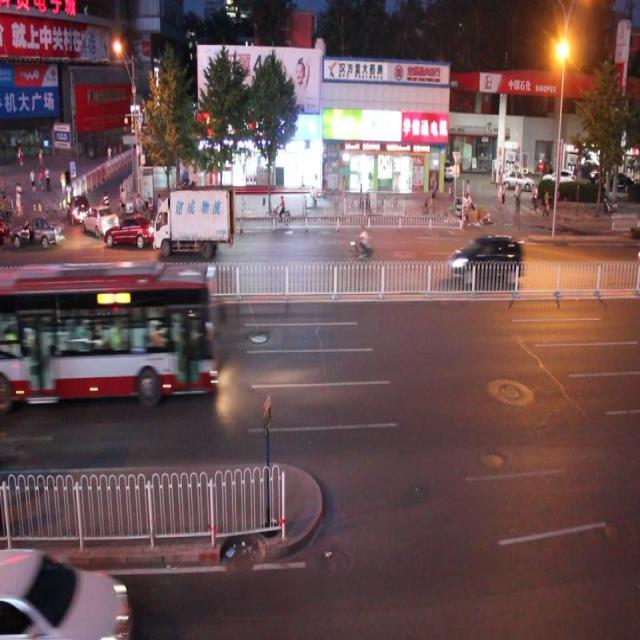bus: (153, 190, 232, 256)
car: (0, 547, 134, 640), (449, 236, 521, 282), (166, 185, 223, 232), (11, 202, 65, 241), (104, 213, 153, 249), (84, 201, 120, 240), (68, 194, 90, 222)
van: (1, 263, 216, 392)
